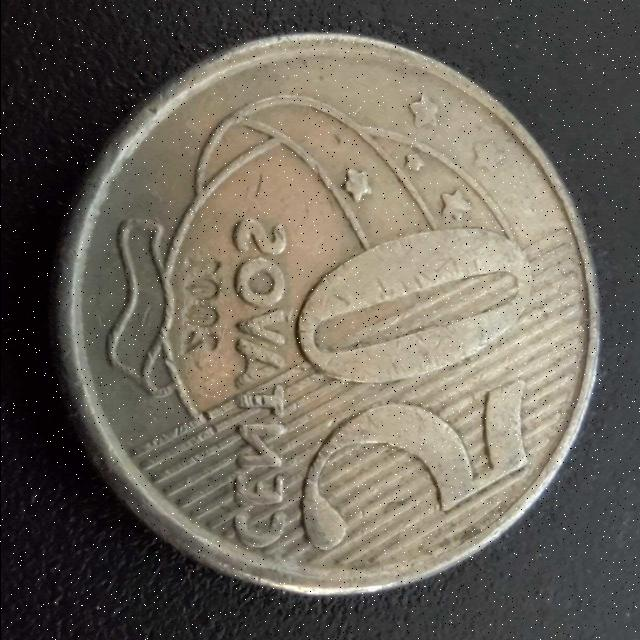50 cent: (50, 31, 602, 594)
